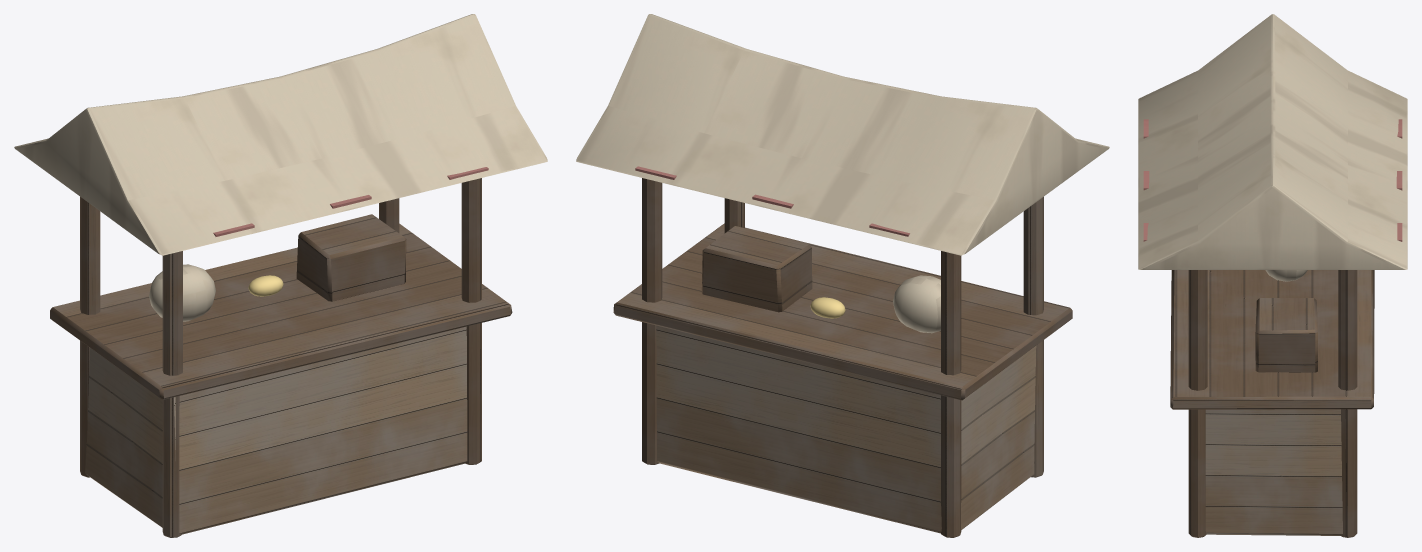
Rendered from market_stall.glb.
3 renders of one model, left to right at view 1: azimuth 30°, elevation 25°; view 2: azimuth 150°, elevation 25°; view 3: azimuth 270°, elevation 25°, orthographic. The views are drawn at different scales.
Parts seen in each view (by area): view 1: market_stall; view 2: market_stall; view 3: market_stall.
Part boxes in pixels (x1,y1,x2,y2): market_stall: (14,14,547,537); market_stall: (576,14,1109,537); market_stall: (1138,14,1407,537).
Size of what is drawn, in the model's own units: 3 by 2.99 by 1.98.
5 materials, 4 textured.
